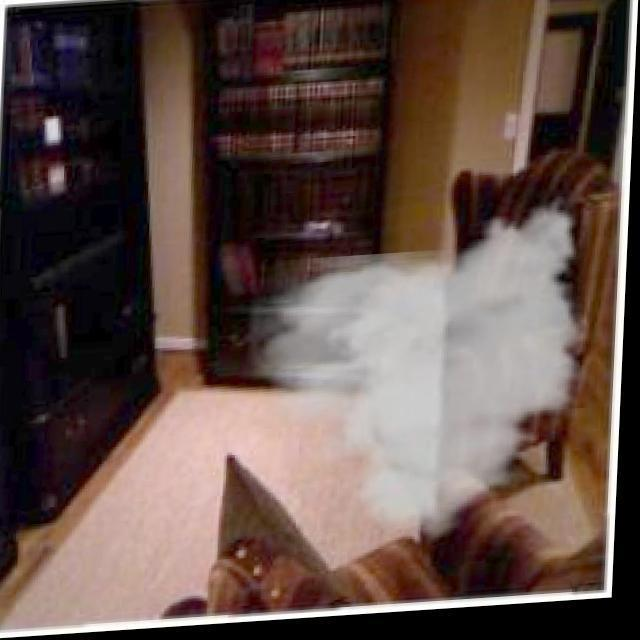Smoke: (256, 204, 588, 562)
